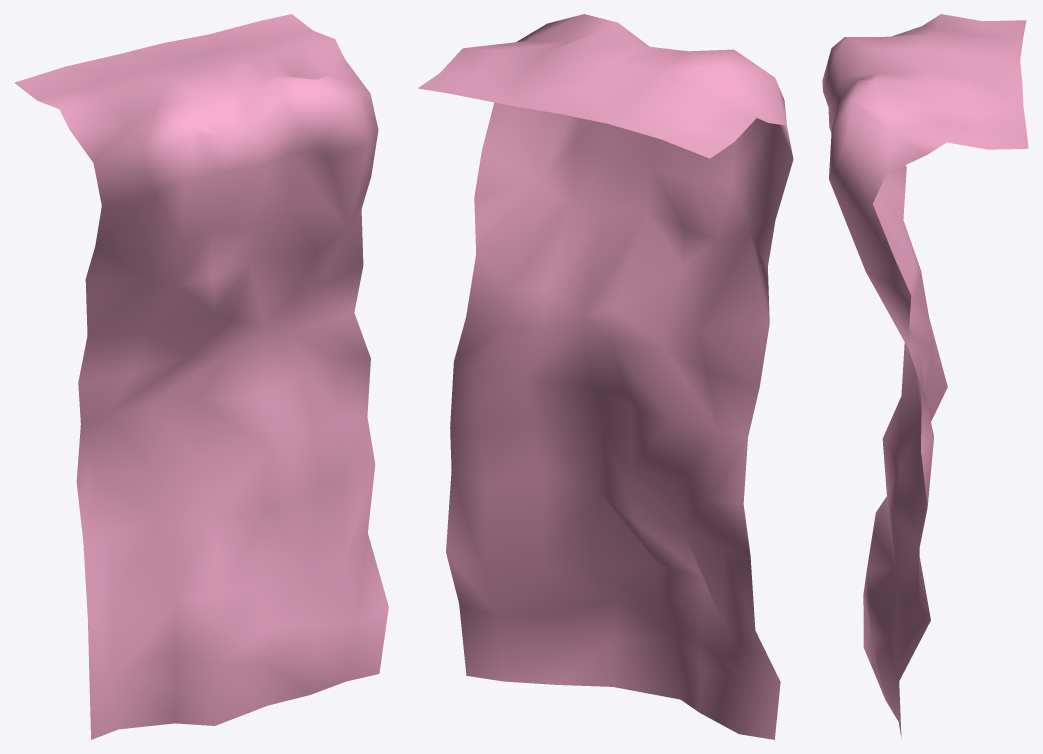
The picture shows the model from 3 angles, left to right: view 1: azimuth 30°, elevation 25°; view 2: azimuth 150°, elevation 25°; view 3: azimuth 270°, elevation 25°; orthographic projection. The views are drawn at different scales.
Visible parts, largest first — view 1: Object80; view 2: Object80; view 3: Object80.
Part boxes in pixels (x1,y1,x2,y2): Object80: (14, 14, 388, 739); Object80: (418, 14, 793, 739); Object80: (822, 14, 1028, 739).
Size of the model in its own units: 732 by 1453 by 450.
